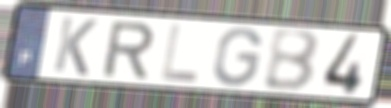4: (321, 31, 365, 99)
B: (262, 29, 323, 95)
G: (211, 25, 265, 89)
K: (50, 14, 100, 79)
L: (158, 21, 201, 84)
R: (100, 20, 158, 80)
